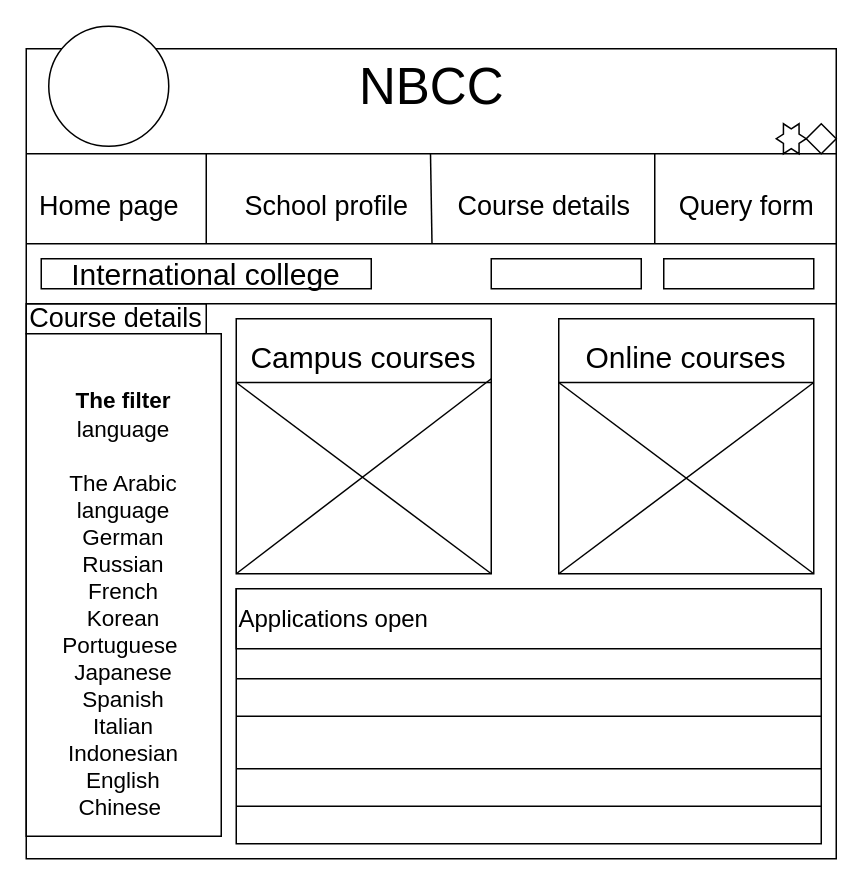
Some shapes in this 864 by 885 pixel diagram are drawn without their labels. Here are the shapes that lost their labels. From the top down, the centre of each, then its label:
point 108,85: Logo
point 565,273: A-Z
point 738,273: search
